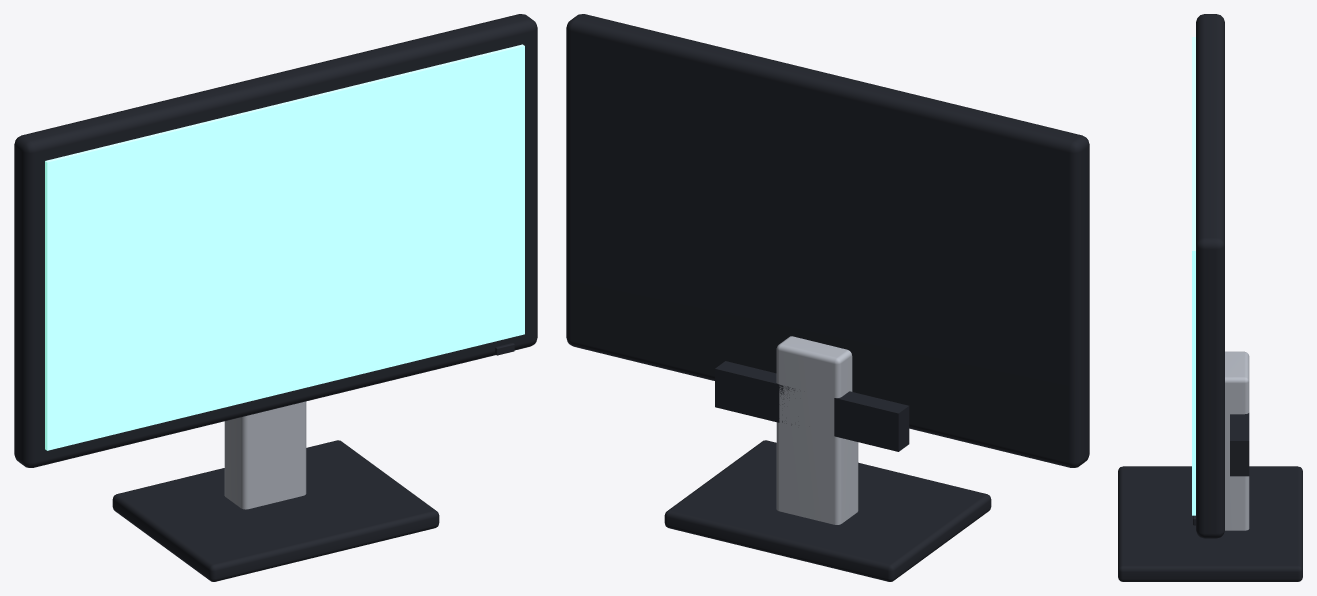
File: MonitorLCD.fbx
3 views of the same model, side by side, from view 1: azimuth 30°, elevation 25°; view 2: azimuth 150°, elevation 25°; view 3: azimuth 270°, elevation 25° (orthographic). The views are drawn at different scales.
Parts seen in each view (by area): view 1: MonitorLCD; view 2: MonitorLCD; view 3: MonitorLCD.
Boxes of the visible parts, <box> form: MonitorLCD: <box>14,14,537,581</box>; MonitorLCD: <box>566,14,1089,581</box>; MonitorLCD: <box>1118,14,1302,581</box>.
Size of the model in its own units: 0.056 by 0.046 by 0.019.
